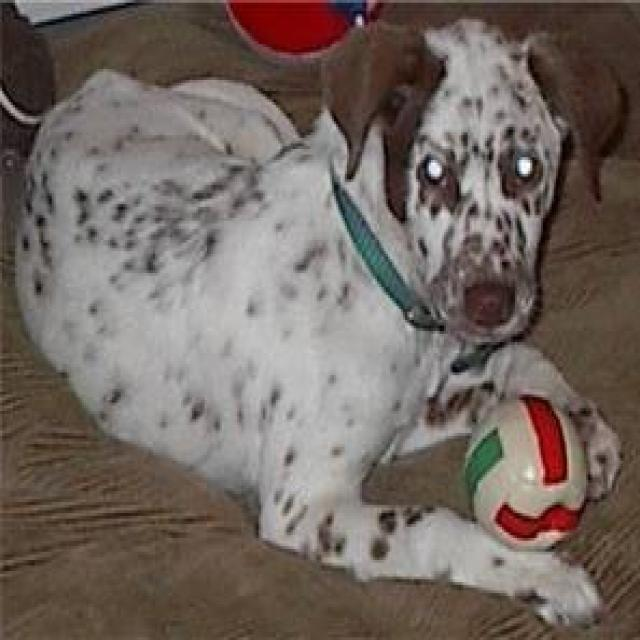dogs: (0, 10, 634, 594)
